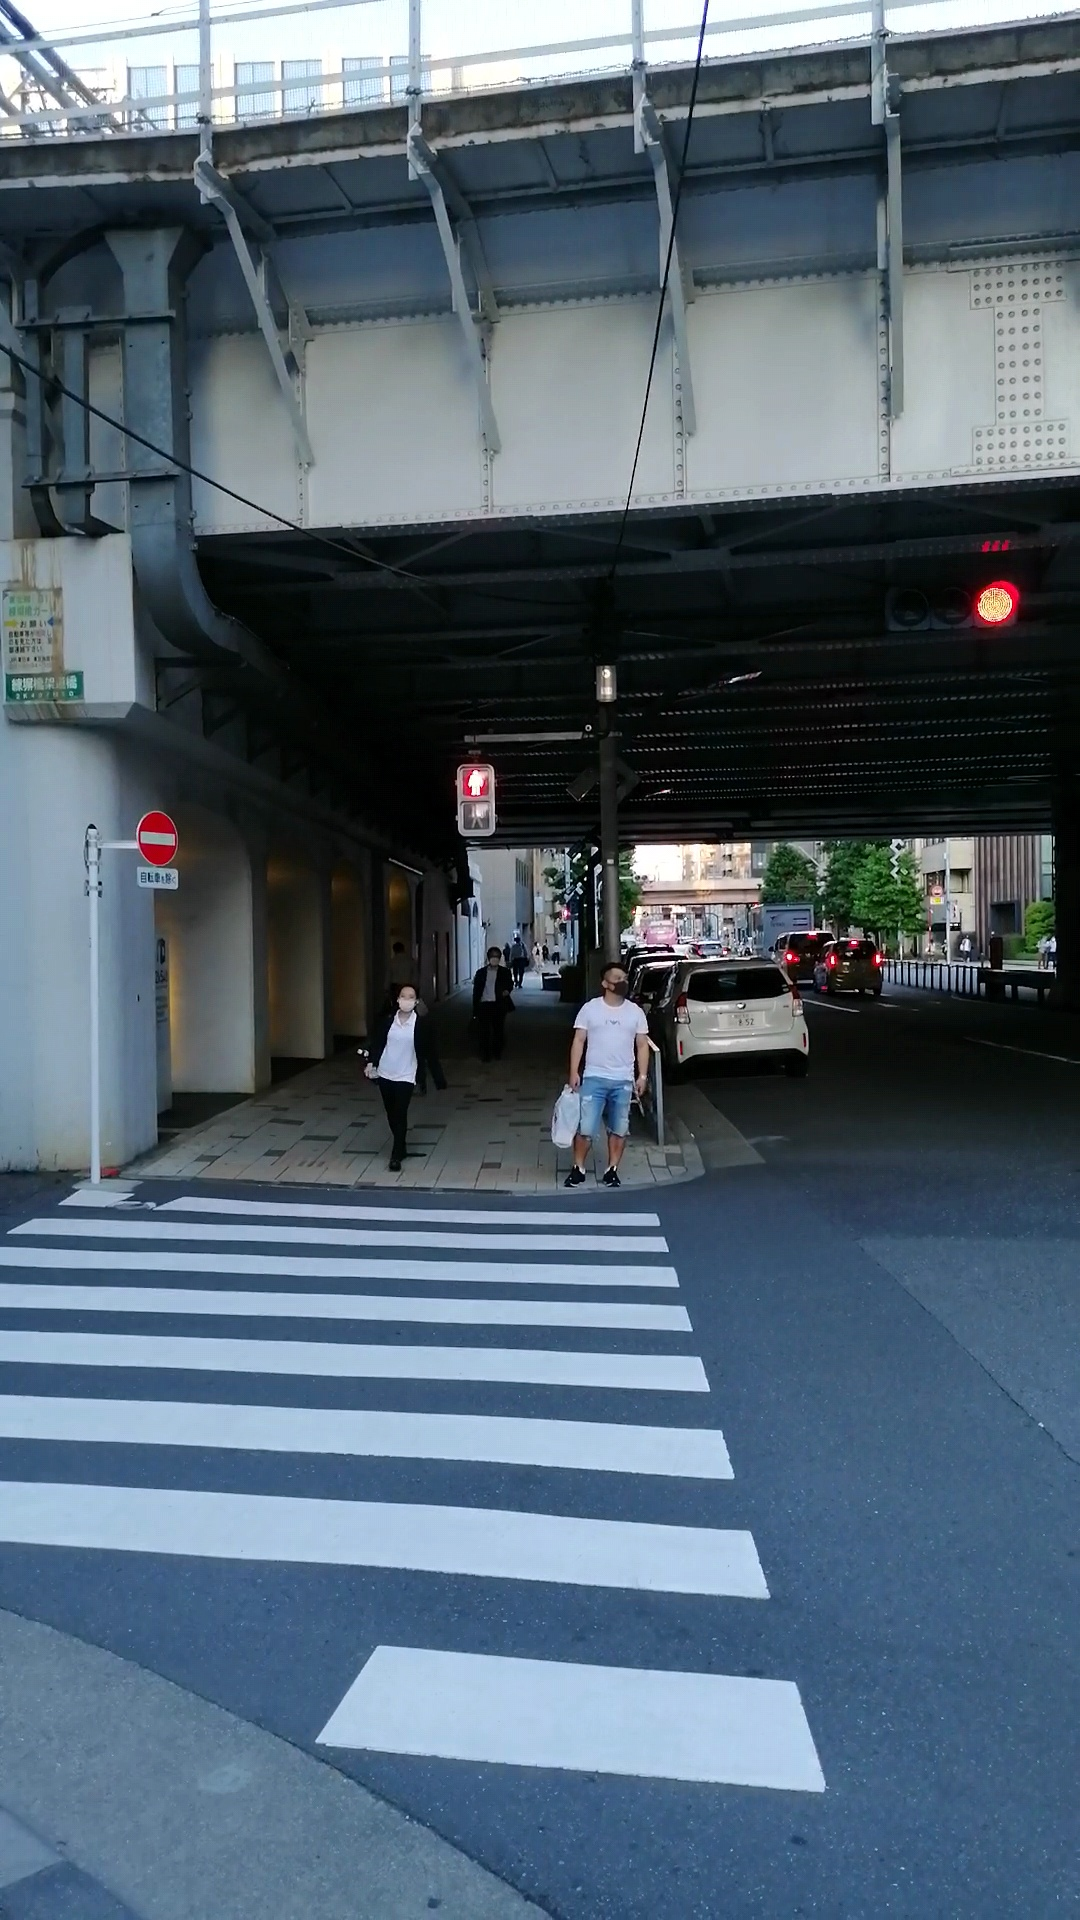red: (454, 762, 496, 836)
